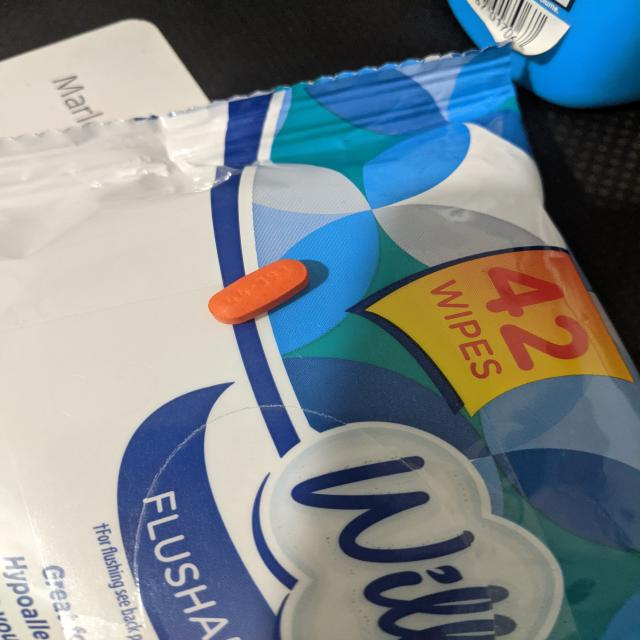non-organic waste: (207, 258, 310, 326)
